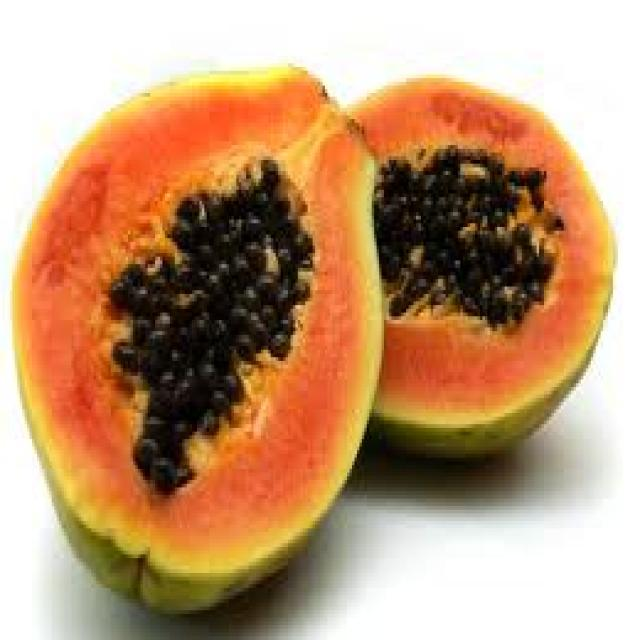papaya: (10, 19, 637, 622)
